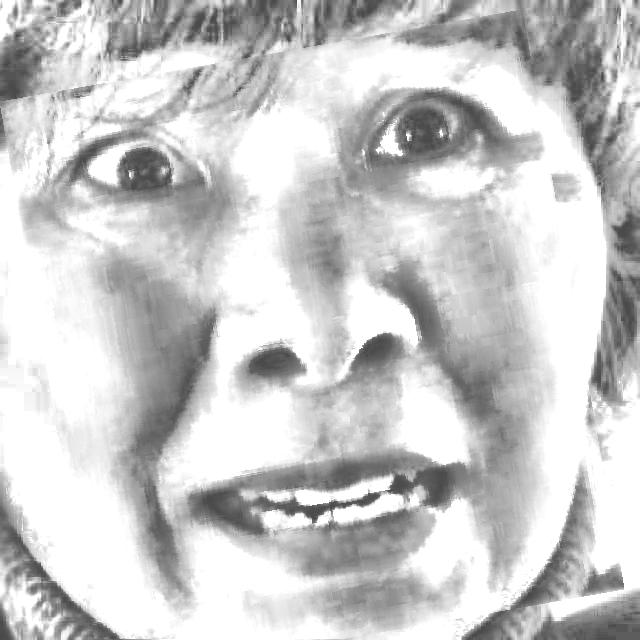angry: (22, 30, 600, 640)
